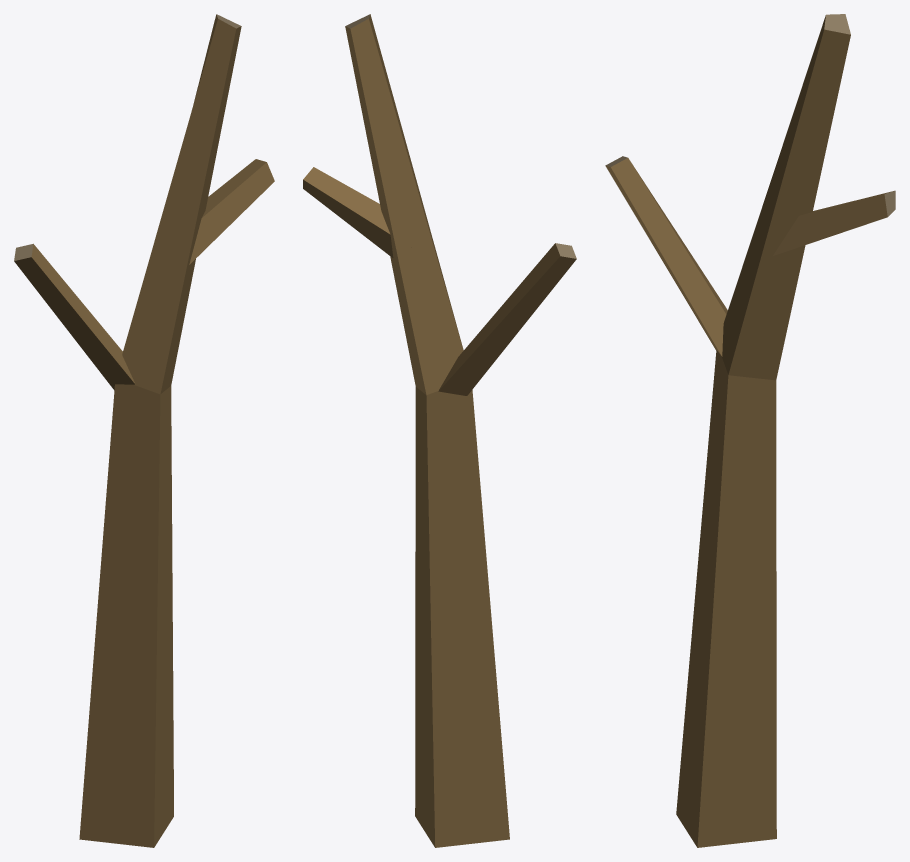
Rendered from TB_D_Env_DeadTreeC_D.FBX.
3 renders of one model, left to right at view 1: azimuth 30°, elevation 25°; view 2: azimuth 150°, elevation 25°; view 3: azimuth 330°, elevation 25°, orthographic. The views are drawn at different scales.
Visible parts, largest first — view 1: TB_D_Env_DeadTreeC_D; view 2: TB_D_Env_DeadTreeC_D; view 3: TB_D_Env_DeadTreeC_D.
Part boxes in pixels (x1,y1,x2,y2): TB_D_Env_DeadTreeC_D: (14, 14, 274, 847); TB_D_Env_DeadTreeC_D: (303, 14, 576, 847); TB_D_Env_DeadTreeC_D: (605, 14, 895, 847).
Bounding box in the file's own units: 2.06 × 5.86 × 0.7393.
